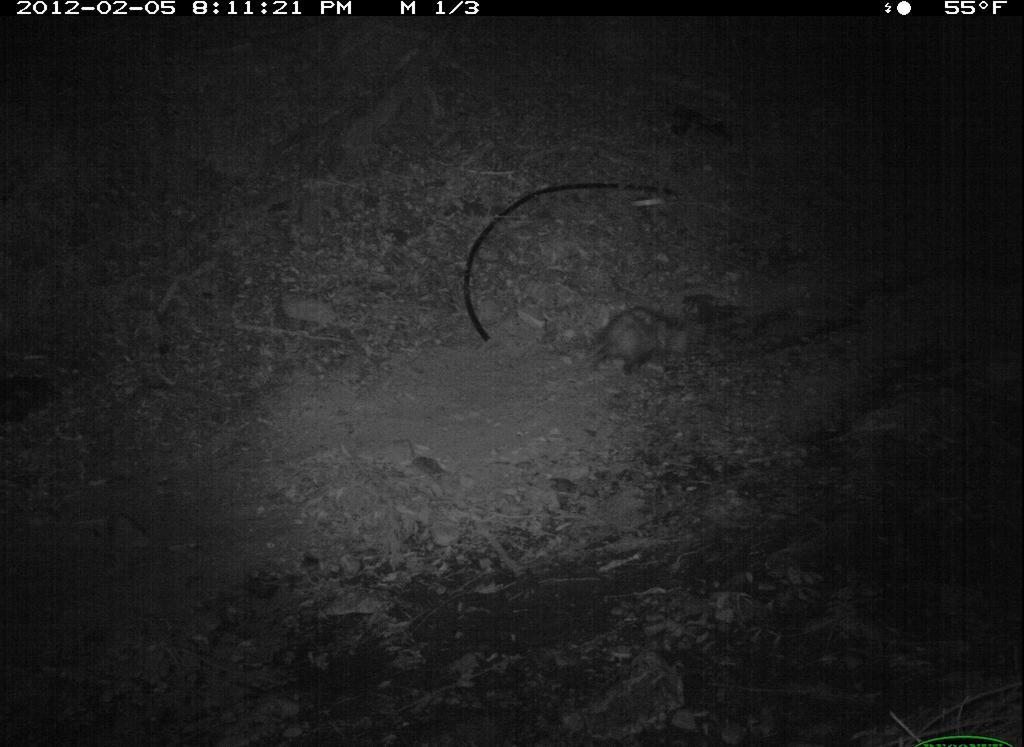opossum: (582, 289, 689, 399)
